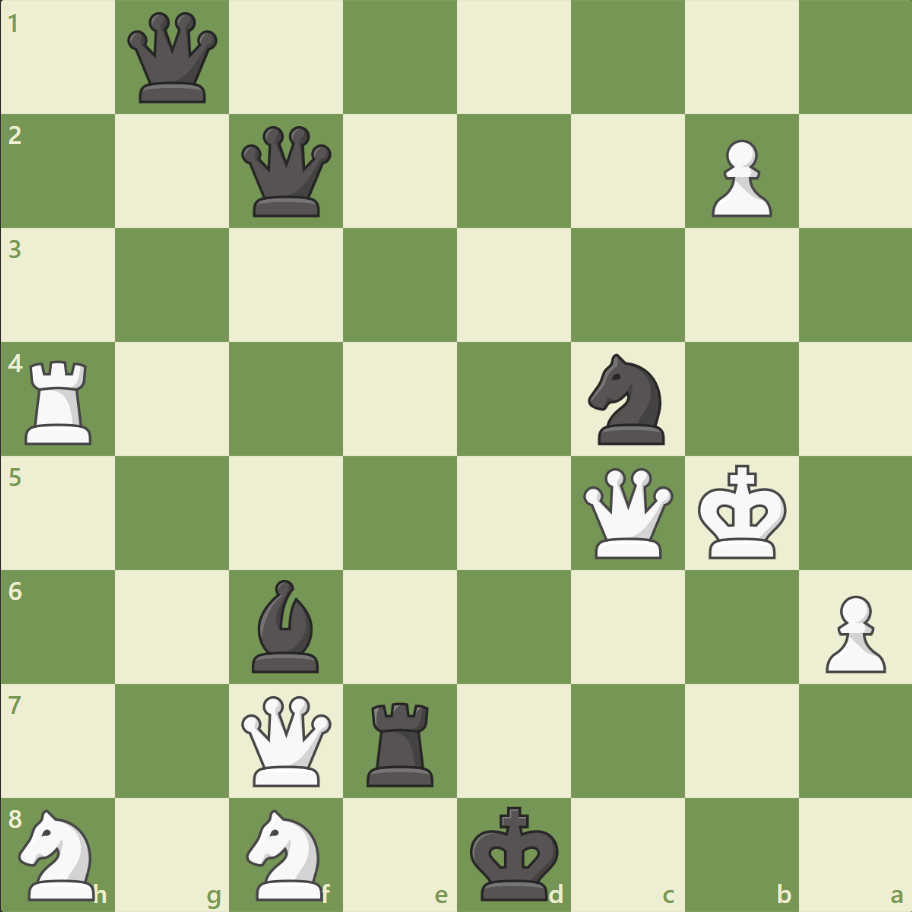K: (692, 458, 792, 566)
N: (238, 802, 335, 904), (11, 802, 108, 904)
P: (701, 132, 776, 223), (815, 586, 889, 677)
Q: (237, 690, 336, 789), (578, 463, 677, 562)
R: (19, 352, 102, 449)
b: (244, 574, 328, 676)
k: (465, 798, 565, 906)
n: (579, 348, 676, 450)
q: (237, 122, 336, 222), (124, 9, 223, 108)
r: (360, 693, 442, 790)
